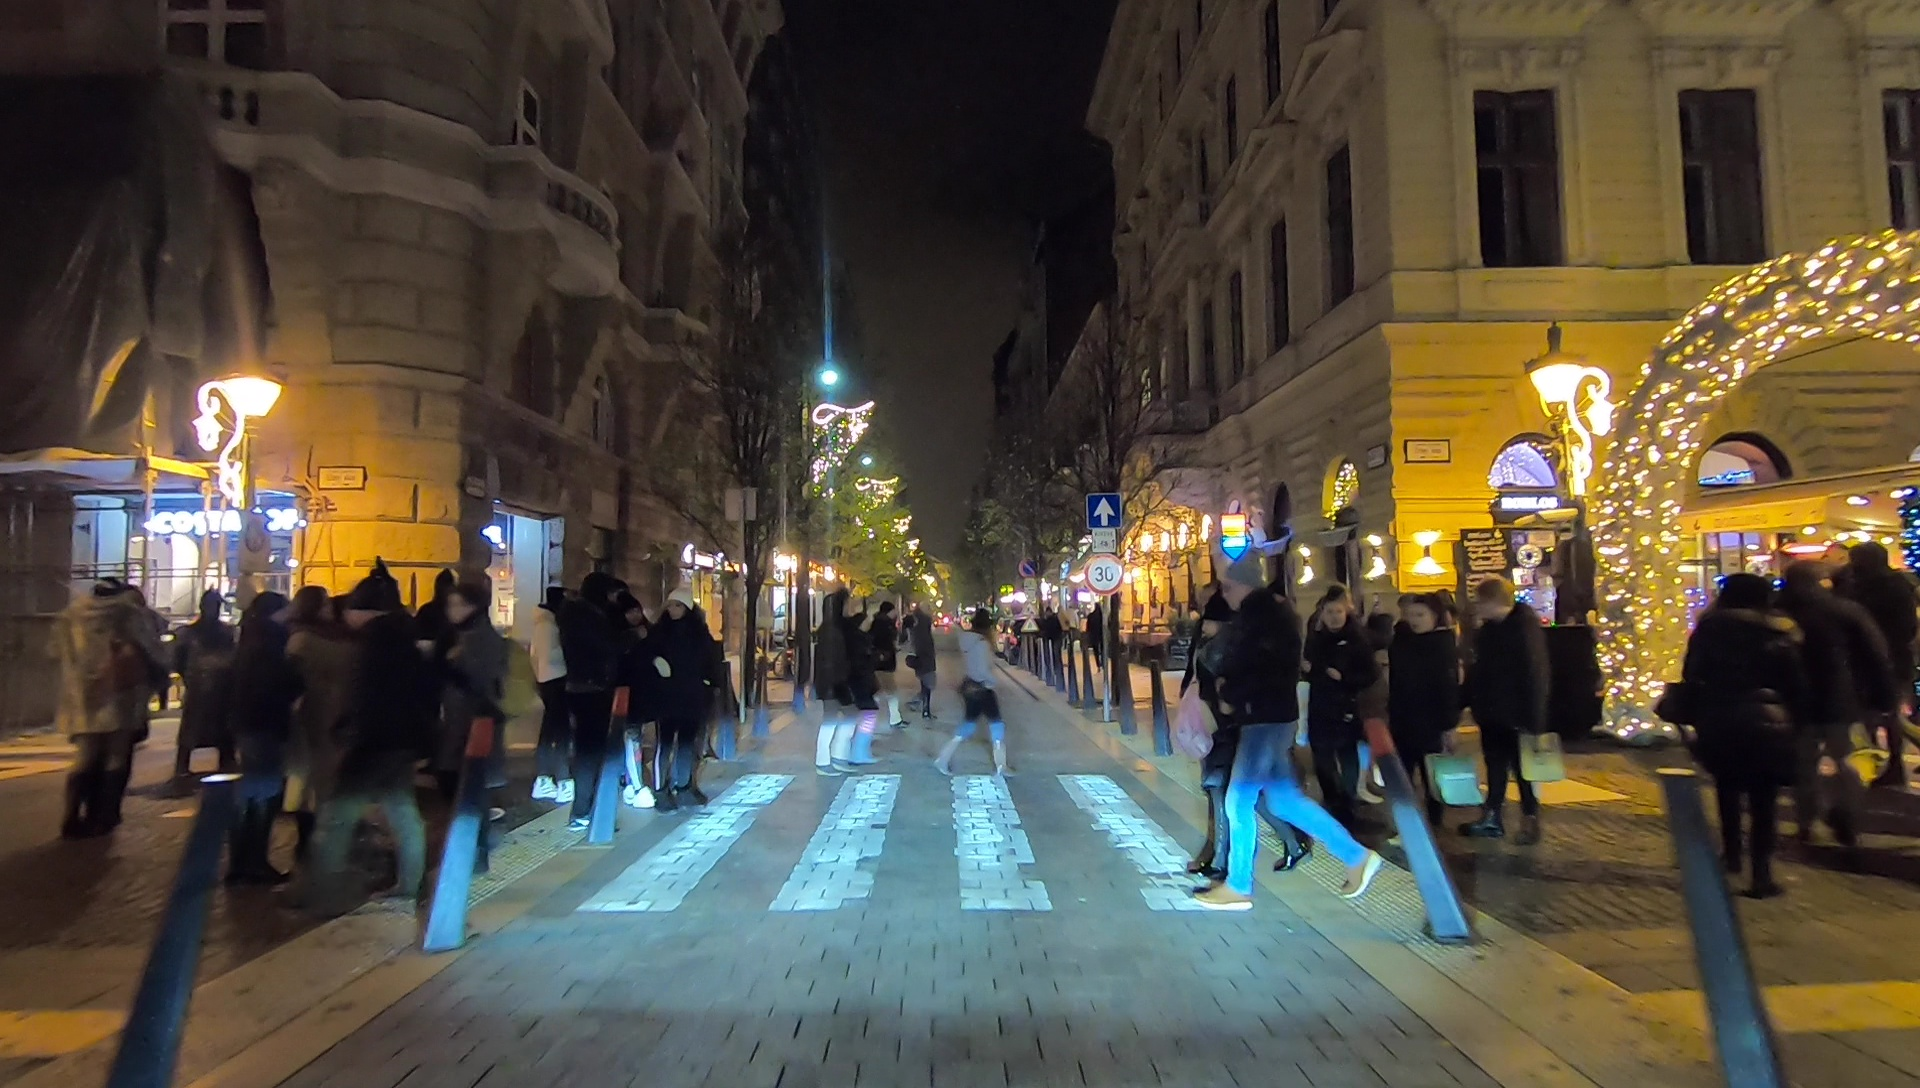person: (1218, 563, 1383, 913), (1675, 564, 1792, 907), (329, 568, 430, 888), (1190, 594, 1302, 882), (1772, 556, 1873, 851), (1823, 525, 1915, 807), (1471, 575, 1550, 851), (281, 587, 356, 869), (53, 574, 135, 825), (644, 587, 718, 822), (435, 588, 496, 865), (1391, 588, 1458, 821), (233, 594, 288, 884), (573, 572, 621, 836), (1313, 591, 1364, 833), (179, 584, 240, 782), (611, 591, 663, 815), (940, 607, 1008, 778), (534, 587, 583, 805), (813, 586, 854, 775), (850, 603, 880, 774), (868, 596, 903, 729), (906, 598, 940, 722), (1083, 601, 1099, 669)
